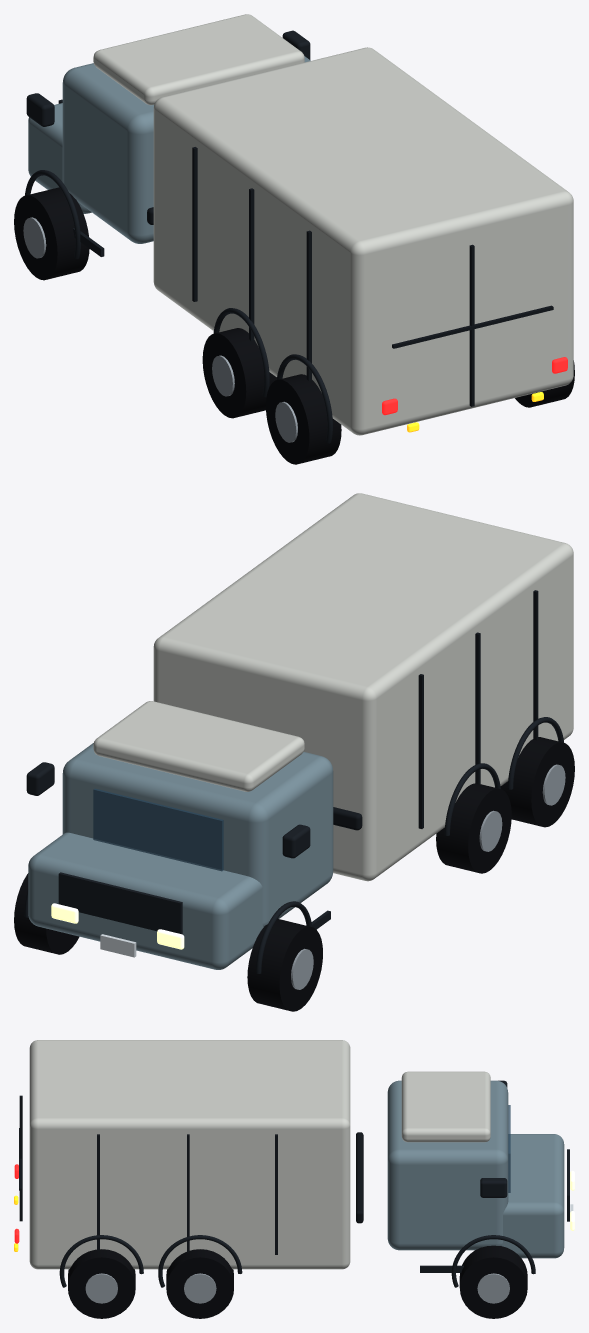
File: truck_near.glb
The picture shows the model from 3 angles, top to bottom: view 1: azimuth 30°, elevation 25°; view 2: azimuth 150°, elevation 25°; view 3: azimuth 270°, elevation 25°; orthographic projection. The views are drawn at different scales.
Parts seen in each view (by area): view 1: truck_near_rear_cargo_box_body_with_soft_bevel, truck_near_separate_forward_cab_body, truck_near_raised_cab_roof_panel, truck_near_front_left_wheel_tire, truck_near_rear_left_wheel_tire, truck_near_middle_left_wheel_tire, truck_near_front_hood_body_panel, truck_near_rear_cargo_door_vertical_panel_break, truck_near_left_cargo_side_rib_panel_break_front, truck_near_rear_cargo_door_horizontal_panel_break, truck_near_left_cargo_side_rib_panel_break_middle, truck_near_left_cargo_side_rib_panel_break_rear (+8 smaller); view 2: truck_near_rear_cargo_box_body_with_soft_bevel, truck_near_separate_forward_cab_body, truck_near_front_hood_body_panel, truck_near_raised_cab_roof_panel, truck_near_front_windshield_glass, truck_near_front_left_wheel_tire, truck_near_front_grille_dark_trim, truck_near_middle_left_wheel_tire, truck_near_rear_left_wheel_tire, truck_near_front_right_wheel_tire, truck_near_left_cargo_side_rib_panel_break_front, truck_near_left_cargo_side_rib_panel_break_middle (+9 smaller); view 3: truck_near_rear_cargo_box_body_with_soft_bevel, truck_near_separate_forward_cab_body, truck_near_front_hood_body_panel, truck_near_raised_cab_roof_panel, truck_near_front_right_wheel_tire, truck_near_middle_right_wheel_tire, truck_near_rear_right_wheel_tire, truck_near_rear_right_wheel_outer_hub, truck_near_front_right_wheel_outer_hub, truck_near_middle_right_wheel_outer_hub, truck_near_visible_cab_cargo_separation_gap, truck_near_rear_right_rounded_wheel_arch_panel_trim (+5 smaller).
Boxes of the visible parts, <box> form: truck_near_rear_cargo_box_body_with_soft_bevel: <box>153,47,573,435</box>; truck_near_separate_forward_cab_body: <box>62,56,310,243</box>; truck_near_raised_cab_roof_panel: <box>93,14,304,105</box>; truck_near_front_left_wheel_tire: <box>14,187,89,280</box>; truck_near_rear_left_wheel_tire: <box>266,374,341,464</box>; truck_near_middle_left_wheel_tire: <box>202,328,276,418</box>; truck_near_front_hood_body_panel: <box>28,103,91,213</box>; truck_near_rear_cargo_door_vertical_panel_break: <box>469,244,474,406</box>; truck_near_left_cargo_side_rib_panel_break_front: <box>192,147,197,301</box>; truck_near_rear_cargo_door_horizontal_panel_break: <box>392,305,553,348</box>; truck_near_left_cargo_side_rib_panel_break_middle: <box>249,188,254,341</box>; truck_near_left_cargo_side_rib_panel_break_rear: <box>306,230,311,380</box>; truck_near_rear_cargo_box_body_with_soft_bevel: <box>153,493,573,881</box>; truck_near_separate_forward_cab_body: <box>62,743,333,926</box>; truck_near_front_hood_body_panel: <box>28,832,263,969</box>; truck_near_raised_cab_roof_panel: <box>93,701,304,791</box>; truck_near_front_windshield_glass: <box>93,788,223,871</box>; truck_near_front_left_wheel_tire: <box>247,919,322,1011</box>; truck_near_front_grille_dark_trim: <box>58,872,182,934</box>; truck_near_middle_left_wheel_tire: <box>436,783,511,873</box>; truck_near_rear_left_wheel_tire: <box>500,737,574,827</box>; truck_near_front_right_wheel_tire: <box>14,873,79,954</box>; truck_near_left_cargo_side_rib_panel_break_front: <box>418,674,423,828</box>; truck_near_left_cargo_side_rib_panel_break_middle: <box>475,632,480,784</box>; truck_near_rear_cargo_box_body_with_soft_bevel: <box>29,1040,350,1269</box>; truck_near_separate_forward_cab_body: <box>387,1080,508,1250</box>; truck_near_front_hood_body_panel: <box>502,1134,564,1258</box>; truck_near_raised_cab_roof_panel: <box>401,1071,490,1142</box>; truck_near_front_right_wheel_tire: <box>459,1245,527,1318</box>; truck_near_middle_right_wheel_tire: <box>166,1249,233,1318</box>; truck_near_rear_right_wheel_tire: <box>68,1249,135,1318</box>; truck_near_rear_right_wheel_outer_hub: <box>85,1273,117,1303</box>; truck_near_front_right_wheel_outer_hub: <box>477,1273,509,1303</box>; truck_near_middle_right_wheel_outer_hub: <box>184,1273,216,1303</box>; truck_near_visible_cab_cargo_separation_gap: <box>356,1132,363,1223</box>; truck_near_rear_right_rounded_wheel_arch_panel_trim: <box>59,1235,143,1287</box>.
Bounding box in the file's own units: 2.85 × 2.46 × 6.61.
